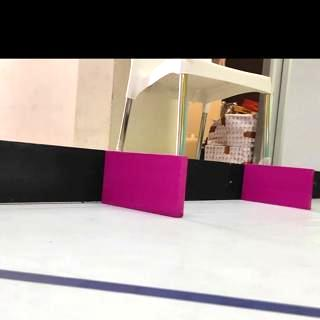xparking: (111, 157, 183, 216), (247, 170, 313, 206)
